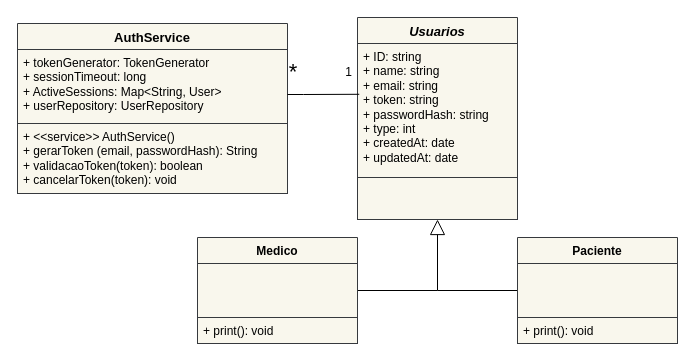
The diagram is 695 pixels wide and 364 high, and some of its shapes have lost their labels. The shapes that lost their labels are listed below. From the top down, each one's centre as x and y in pixels, then its label:
the point at 437,198: + logIn(type): type + logOut(): void
the point at 277,290: + codigoMedico: string + crm: string +specialty: string
the point at 597,290: + codigoPaciente: string + birthDate: date + gender: string
